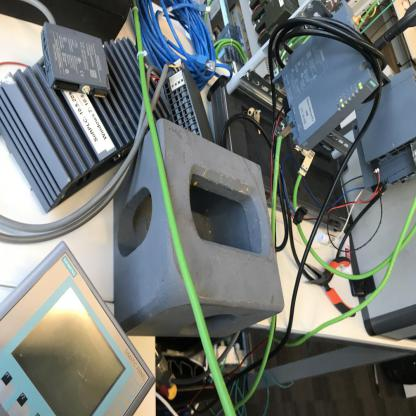CornerCasting: (110, 113, 286, 344)
